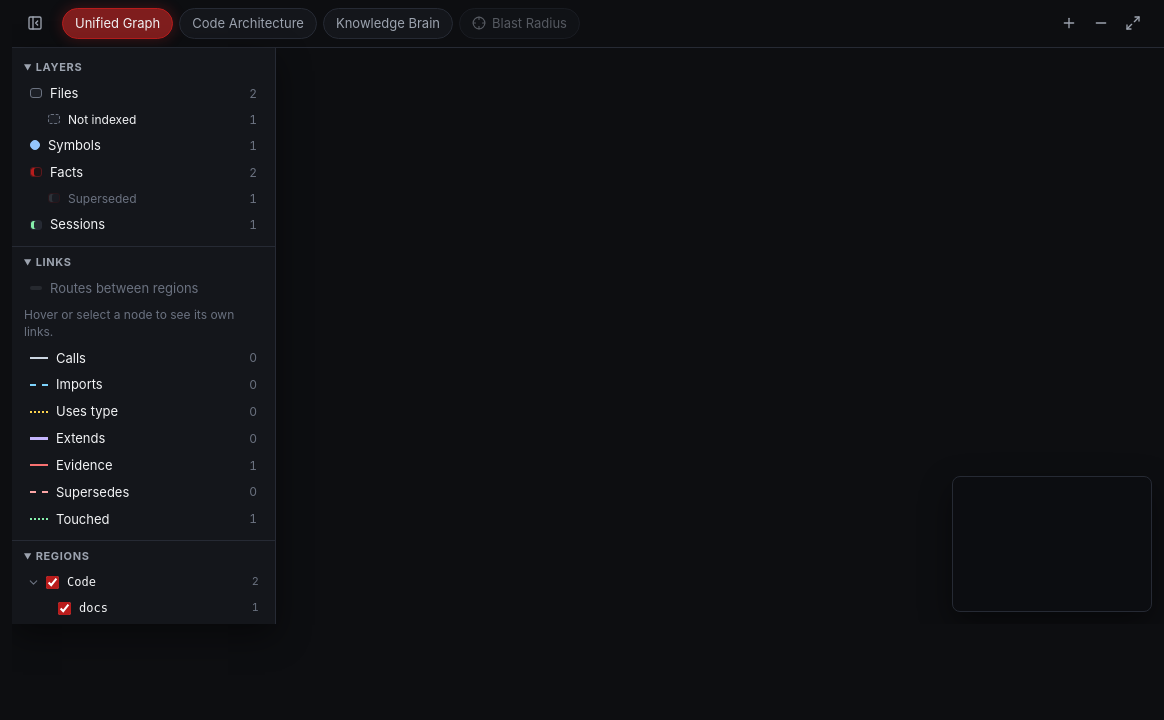
it: GraphCanvas › folds the map controls away
Click the button named "Hide map controls": (35, 23) [20, 8, 50, 38]
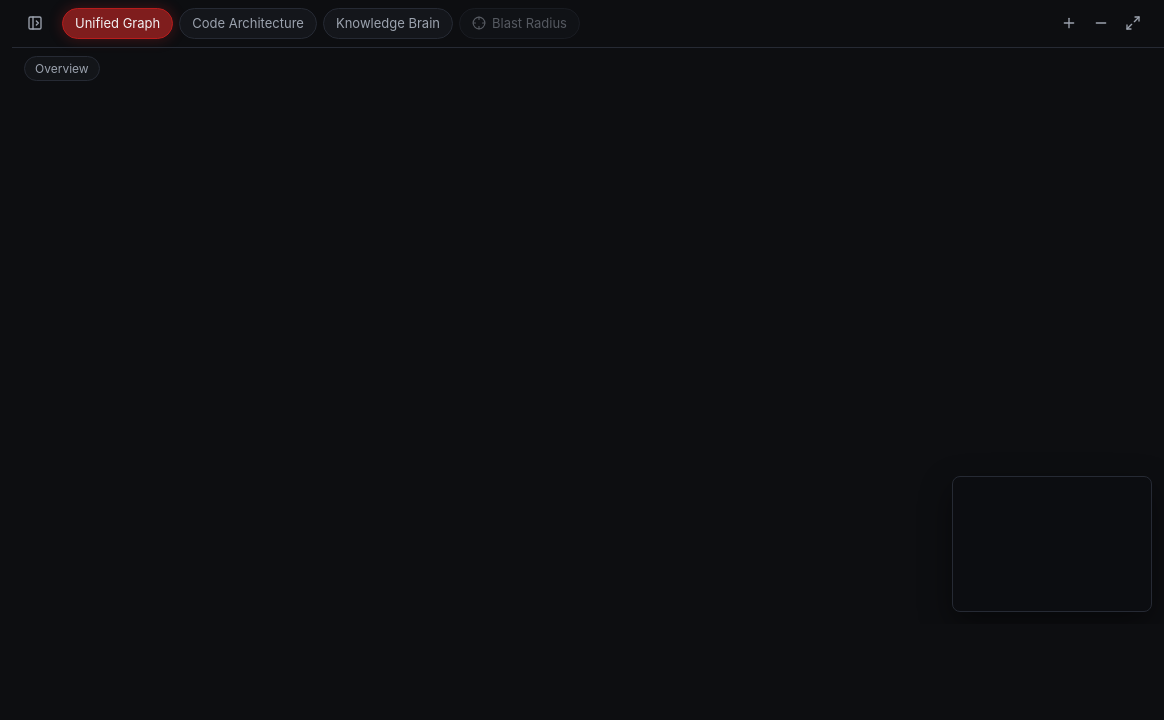
Click the button named "Show map controls": (35, 23) [20, 8, 50, 38]
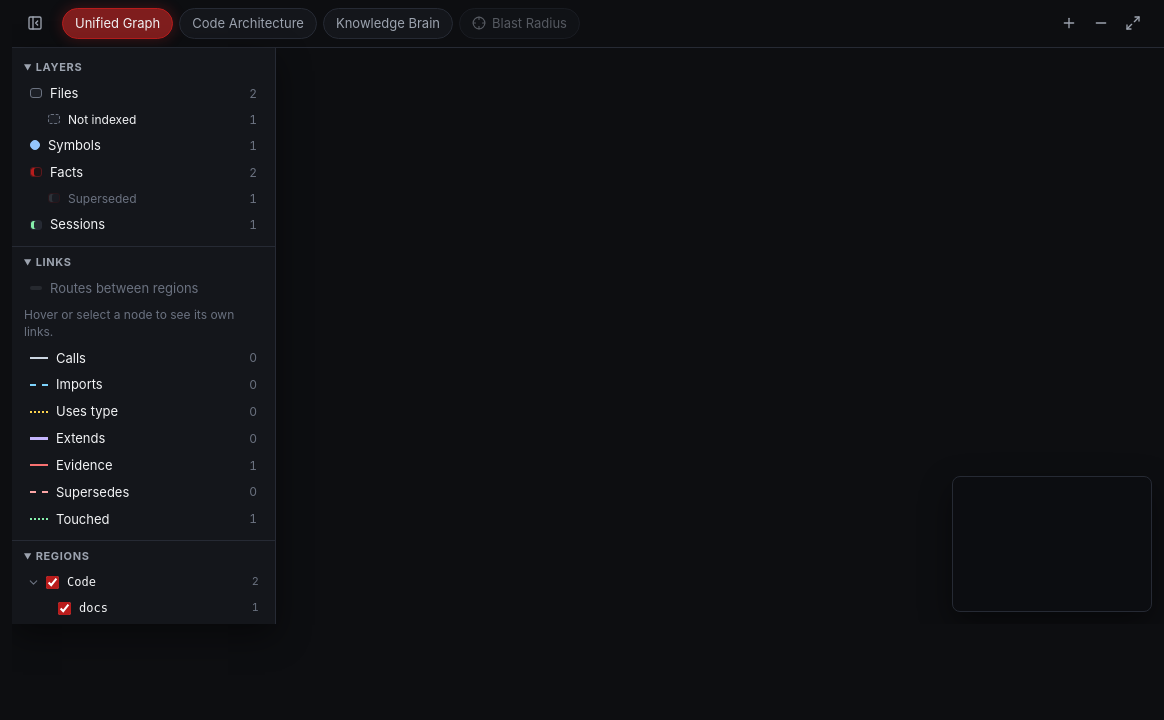
Now the element named "Map controls" is shown, box [12, 48, 276, 624]
